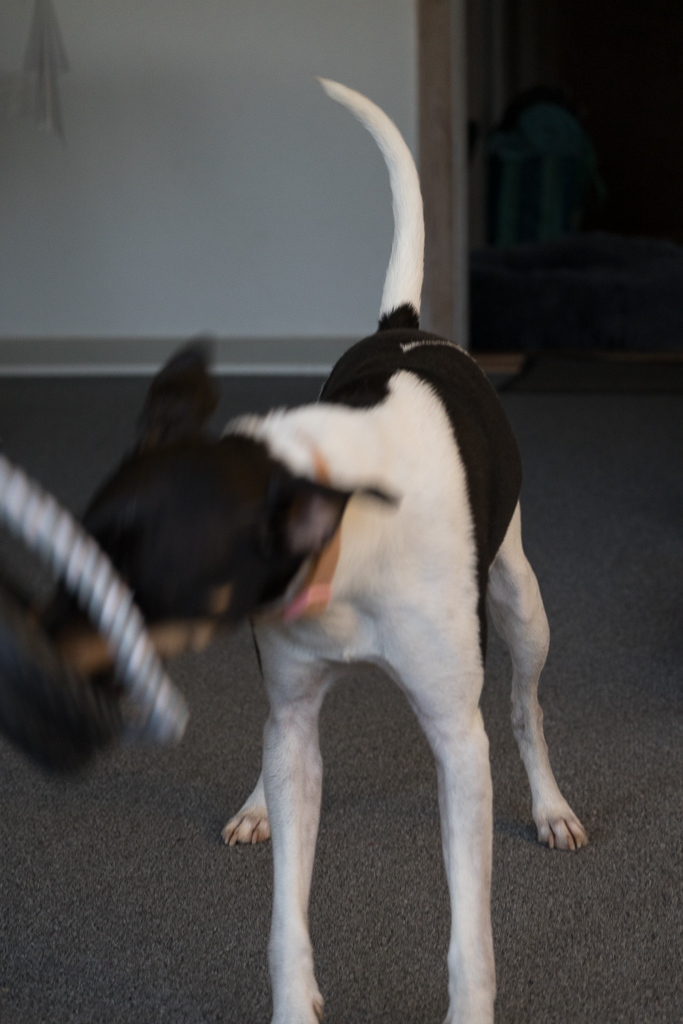Dog: (19, 70, 595, 1024)
